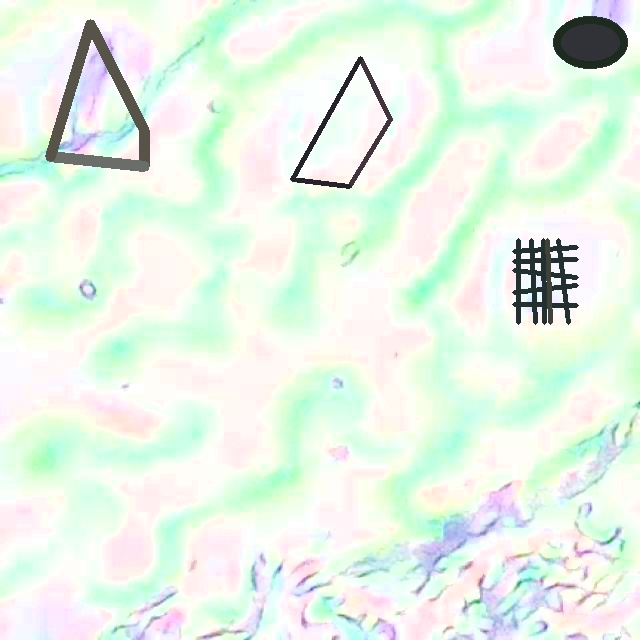close: (290, 57, 392, 187), (512, 238, 577, 323)
open: (45, 19, 149, 171), (553, 16, 627, 67)
